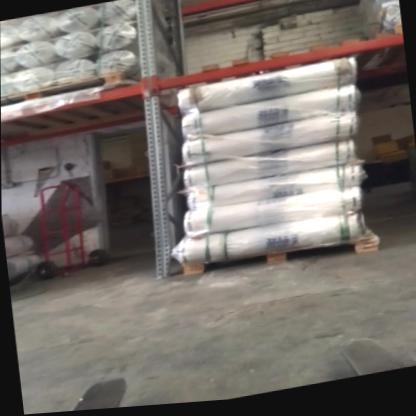vertical_damage: (141, 241, 181, 287)
